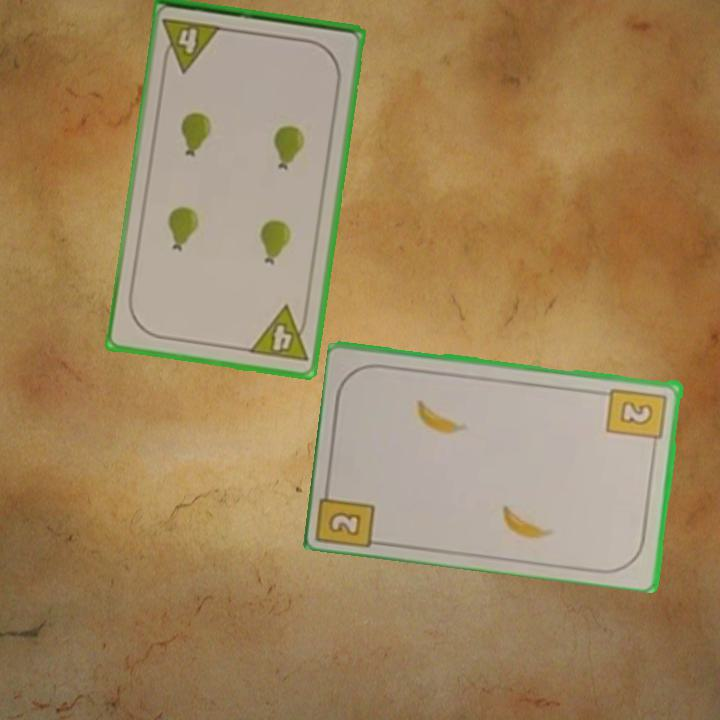2b: (316, 477, 379, 548), (604, 384, 670, 451)
4p: (245, 302, 312, 366), (159, 15, 225, 75)
